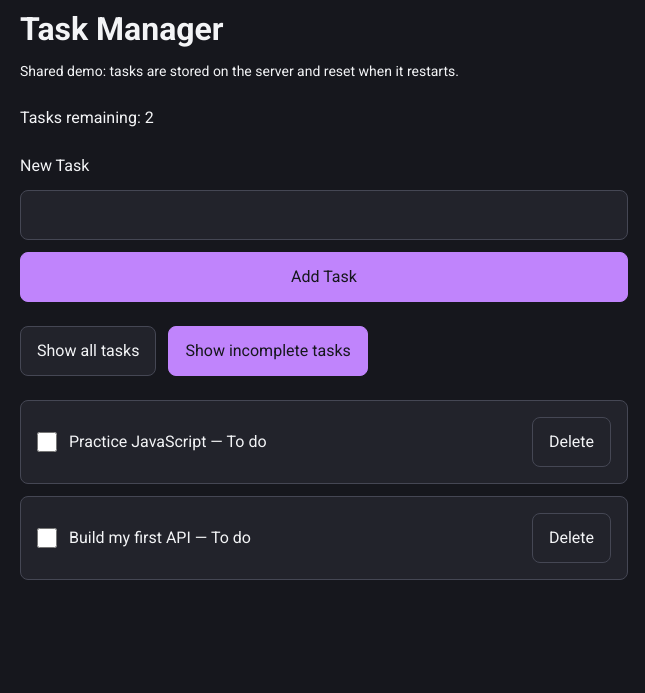
patches completion in both directions and updates the count
Expected: the field labelled "New Task" is enabled, [20,190,628,240]
Click the button "Show all tasks".
click(88, 351)  # box [20,326,156,376]
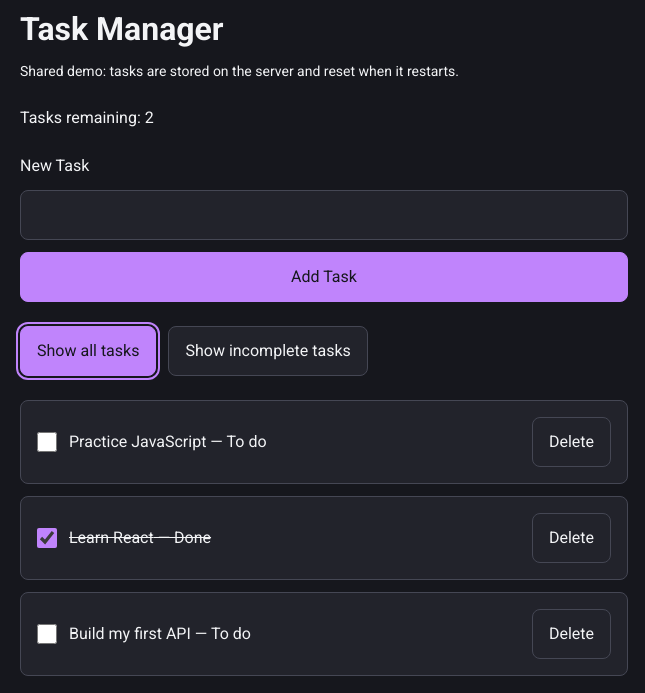
Click the checkbox named "Practice JavaScript".
click(47, 442)  # box [37,432,57,452]
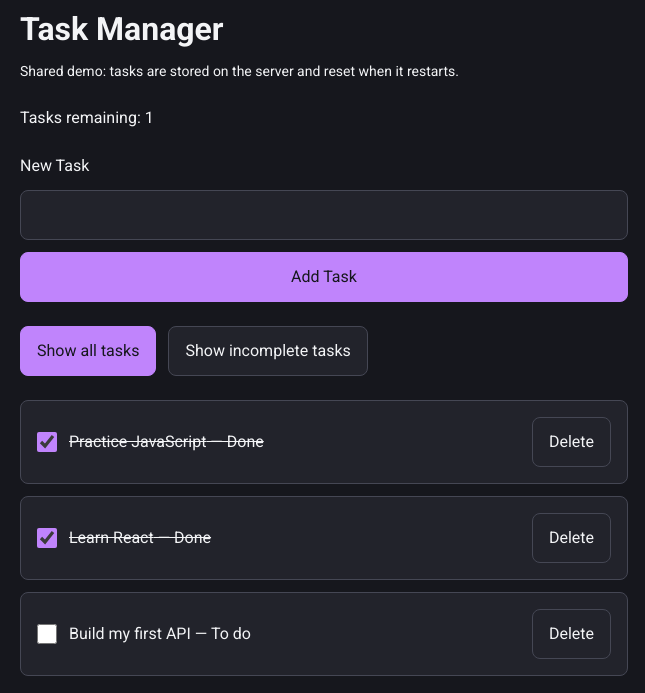
Expected: the checkbox named "Practice JavaScript" is checked
Expected: the text "Tasks remaining: 1" is shown, [20,108,154,127]
Click the checkbox named "Practice JavaScript".
click(47, 442)  # box [37,432,57,452]
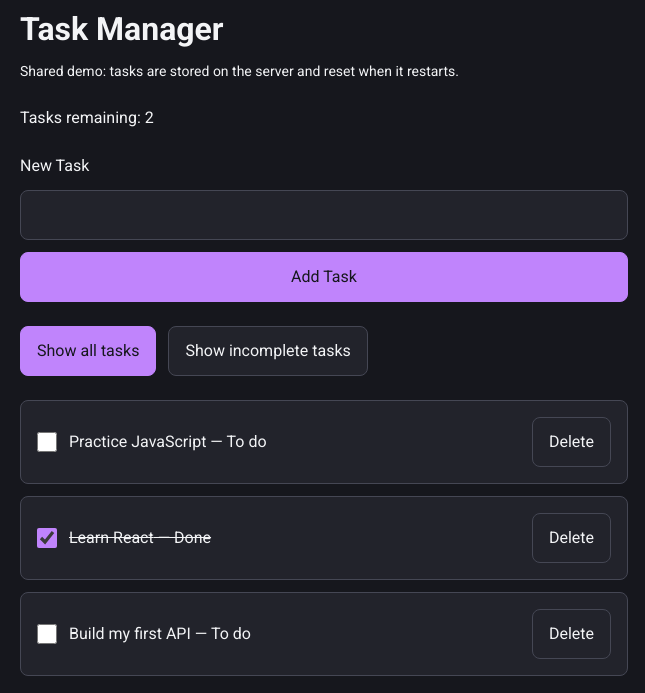
Expected: the checkbox named "Practice JavaScript" is not checked, [37,432,57,452]
Expected: the text "Tasks remaining: 2" is shown, [20,108,154,127]
